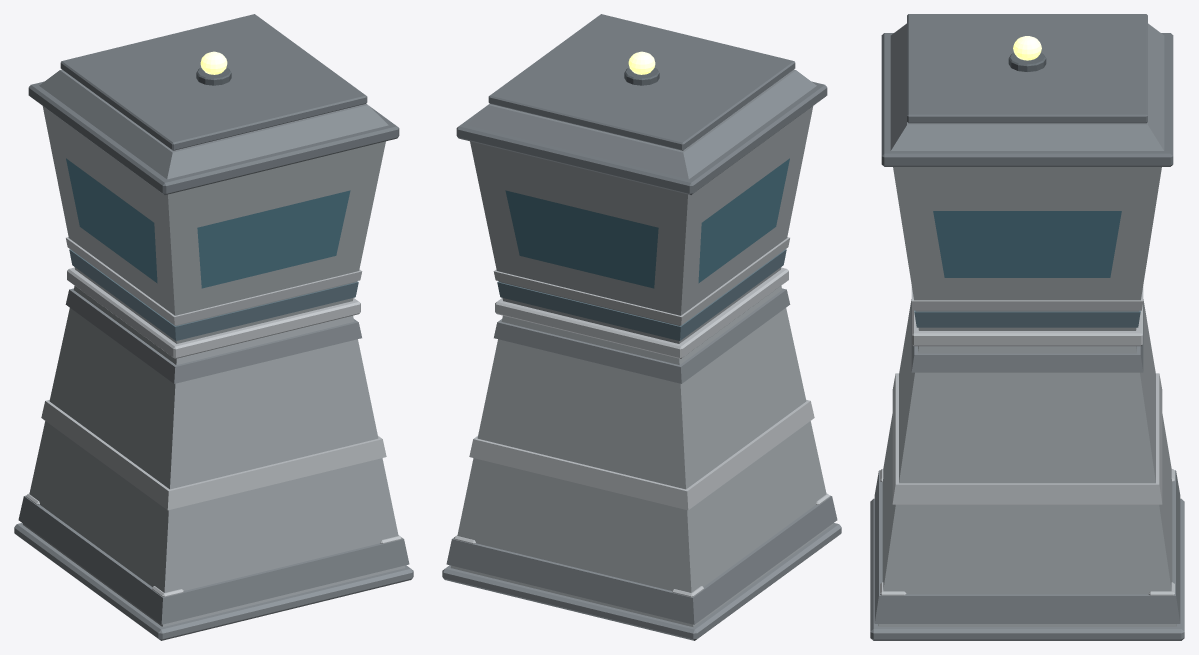
The model's file is RoadCheckpointWatchtower.glb.
3 renders of one model, left to right at view 1: azimuth 30°, elevation 25°; view 2: azimuth 150°, elevation 25°; view 3: azimuth 270°, elevation 25°, orthographic. The views are drawn at different scales.
Parts seen in each view (by area): view 1: TowerMesh; view 2: TowerMesh; view 3: TowerMesh, Glow.
Boxes of the visible parts, x1=… form: TowerMesh: x1=14, y1=14, x2=413, y2=640; TowerMesh: x1=442, y1=14, x2=841, y2=640; TowerMesh: x1=870, y1=14, x2=1184, y2=640; Glow: x1=1013, y1=36, x2=1041, y2=60.
Size of the model in its own units: 5.2 by 9.82 by 5.2.
